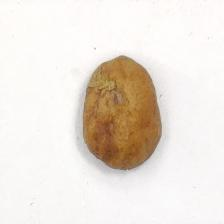NG: (84, 55, 124, 102)
